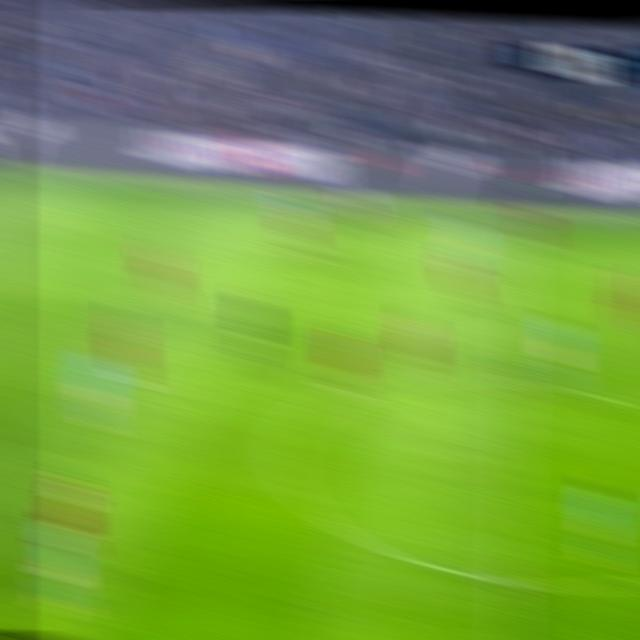halfcircle_bottom: (488, 559, 536, 602)
halfcircle_top: (490, 361, 541, 401)
midline_top_intersection: (500, 209, 536, 236)
